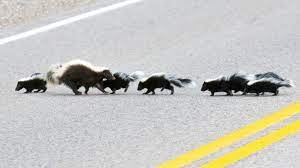skunk: (49, 60, 115, 97), (138, 71, 190, 95), (241, 76, 293, 97), (199, 75, 236, 96), (13, 75, 49, 94)
